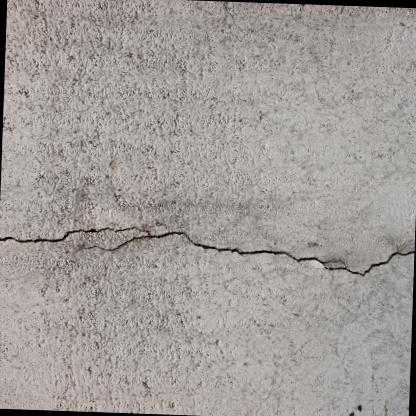crack: (0, 226, 415, 275)
